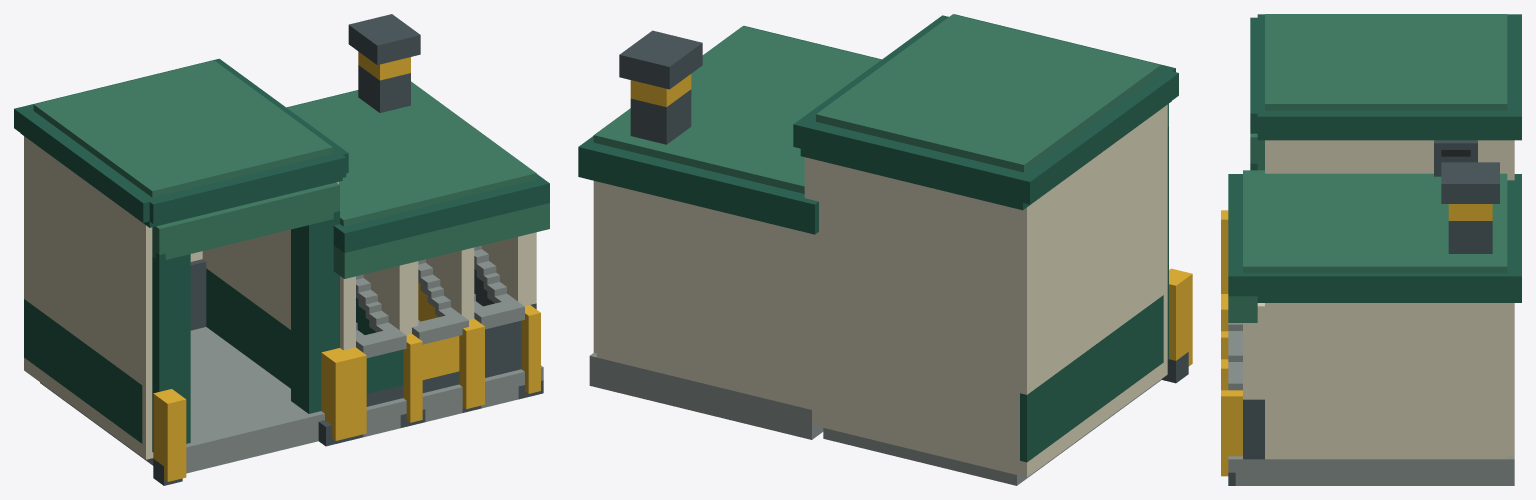
File: recycling_center.glb
The picture shows the model from 3 angles, left to right: view 1: azimuth 30°, elevation 25°; view 2: azimuth 150°, elevation 25°; view 3: azimuth 270°, elevation 25°; orthographic projection. The views are drawn at different scales.
Parts seen in each view (by area): view 1: recycling_center; view 2: recycling_center; view 3: recycling_center.
Boxes of the visible parts, <box> form: recycling_center: <box>14,14,549,485</box>; recycling_center: <box>578,14,1192,485</box>; recycling_center: <box>1221,14,1521,485</box>.
Bounding box in the file's own units: 9.45 × 6.6 × 6.15.
